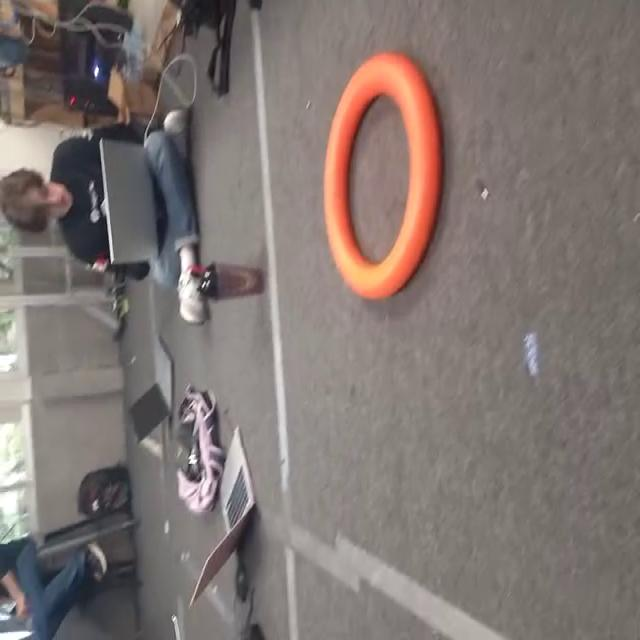note: (322, 55, 446, 307)
